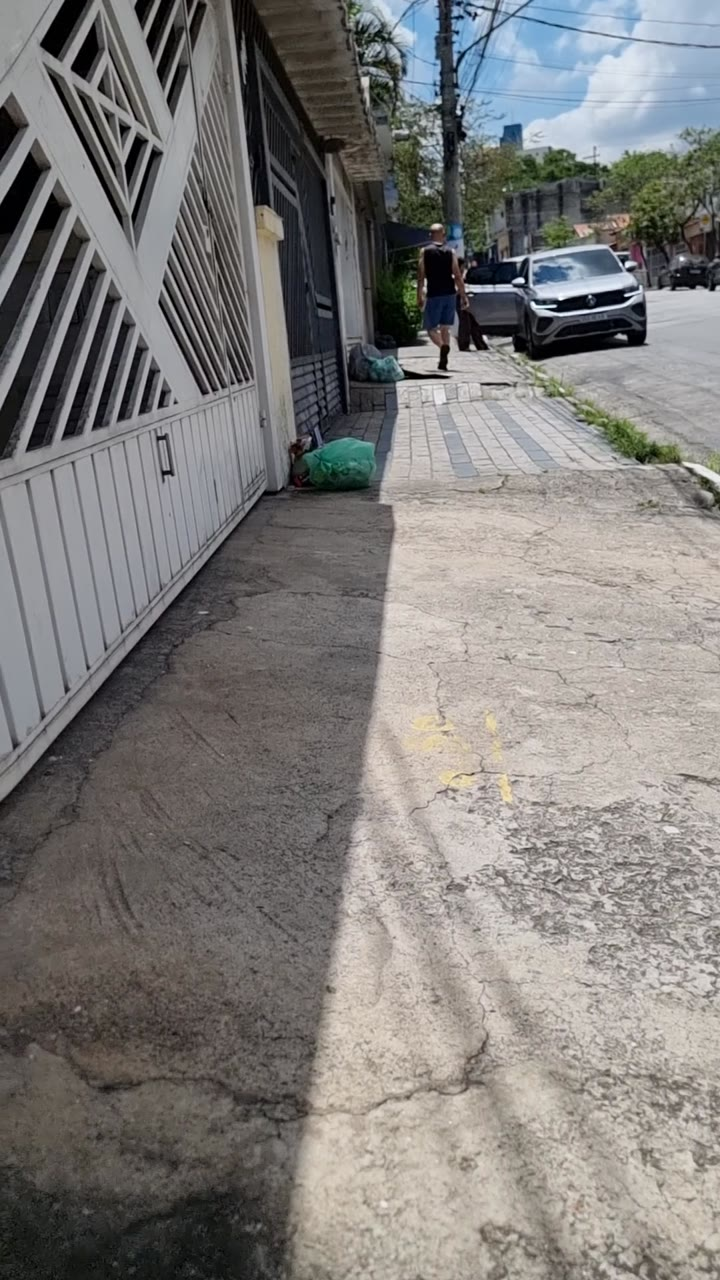obstaculo: (299, 438, 376, 490)
